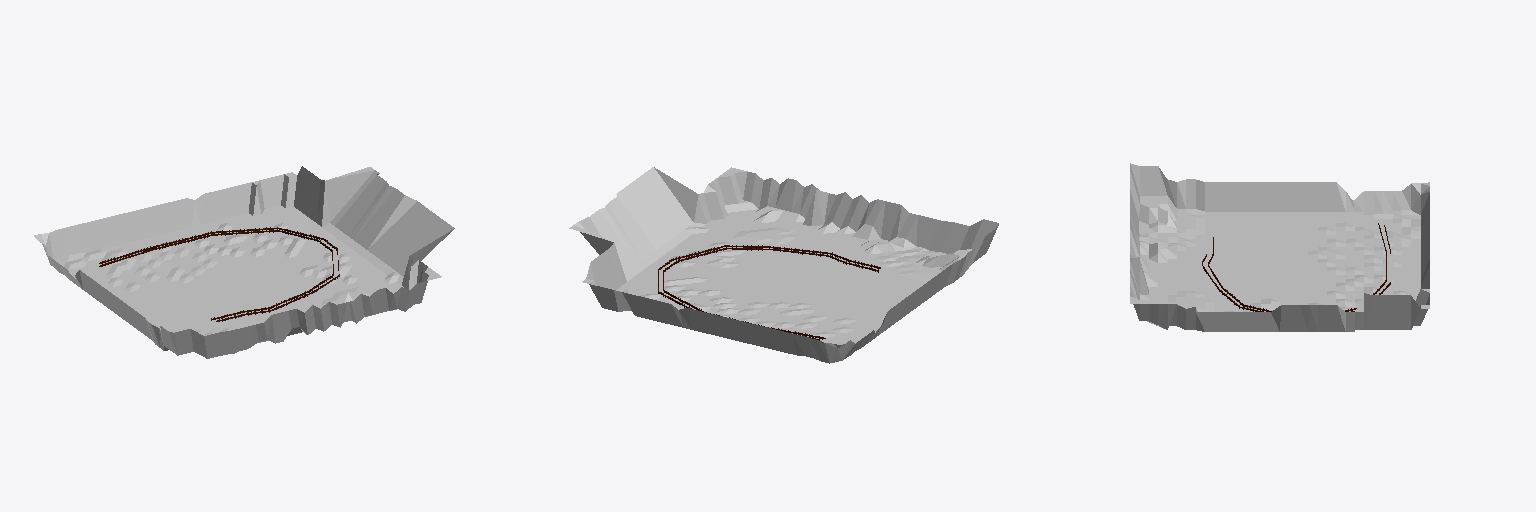
Rendered from boardwalk.obj.
The picture shows the model from 3 angles: view 1: azimuth 30°, elevation 25°; view 2: azimuth 150°, elevation 25°; view 3: azimuth 270°, elevation 25°; orthographic projection.
Visible parts, largest first — view 1: Plane, Cube.009, Plane.001; view 2: Plane, Cube.009; view 3: Plane, Plane.001, Cube.009.
Boxes of the visible parts, x1,y1,x2,y2 form: Plane: [34, 166, 454, 358]; Cube.009: [99, 227, 339, 321]; Plane.001: [97, 230, 339, 323]; Plane: [569, 167, 998, 363]; Cube.009: [658, 245, 880, 340]; Plane: [1130, 163, 1429, 331]; Plane.001: [1202, 225, 1392, 311]; Cube.009: [1202, 223, 1390, 311].
Size of the model in its own units: 19.31 by 2.81 by 16.01.